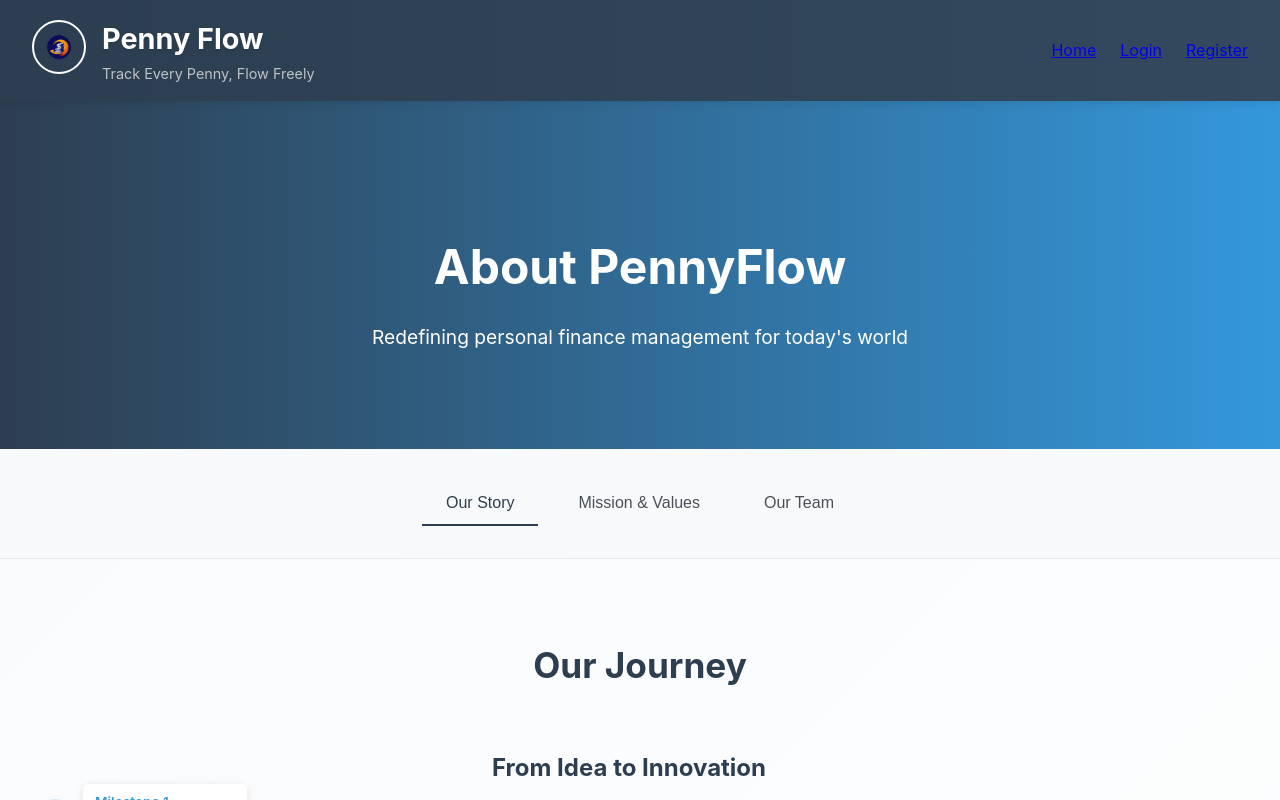
Test: PennyFlow About Us Page › switches to Mission & Values tab
Click the button "Mission & Values".
click(640, 504)  # box top-left (555, 481), bottom-right (725, 527)
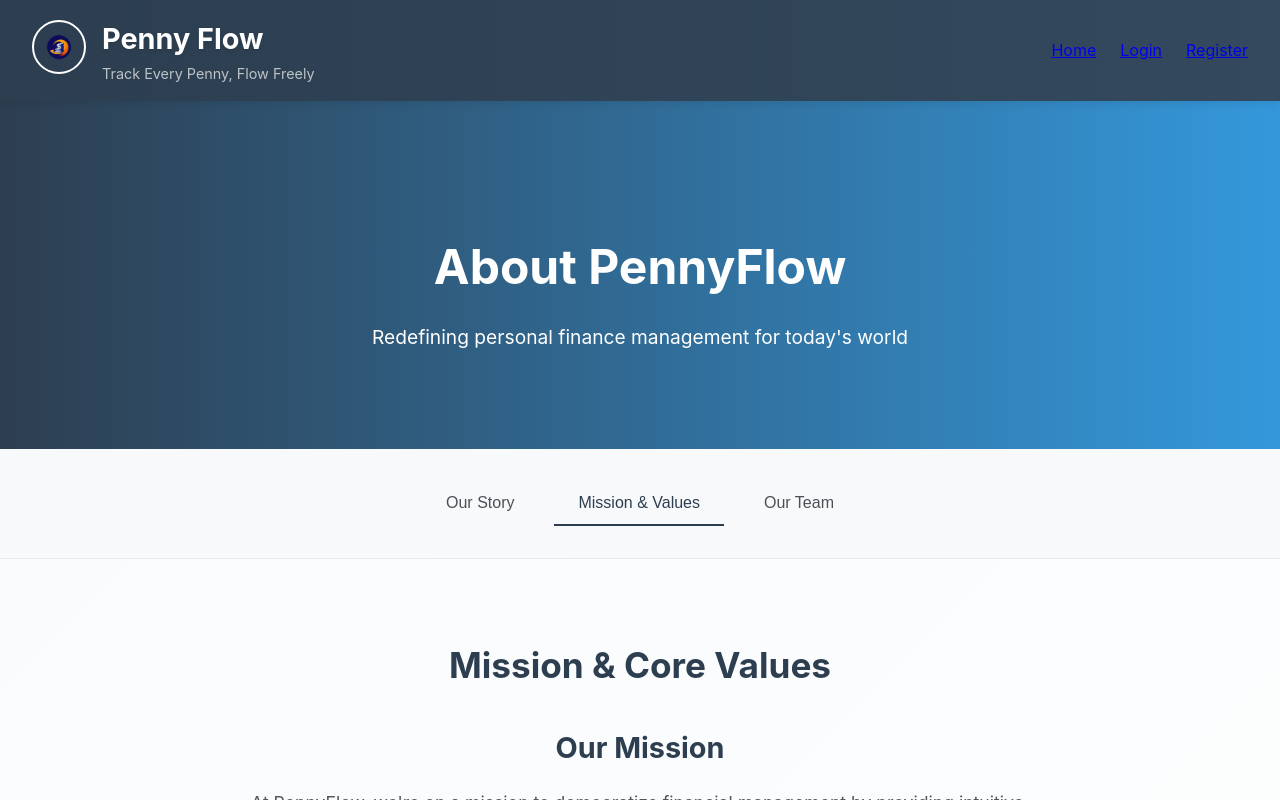
Check: the element with id "mission" is shown, box top-left (40, 637), bottom-right (1240, 799)
Check: the heading "Our Mission" is shown, box top-left (556, 730), bottom-right (724, 765)
